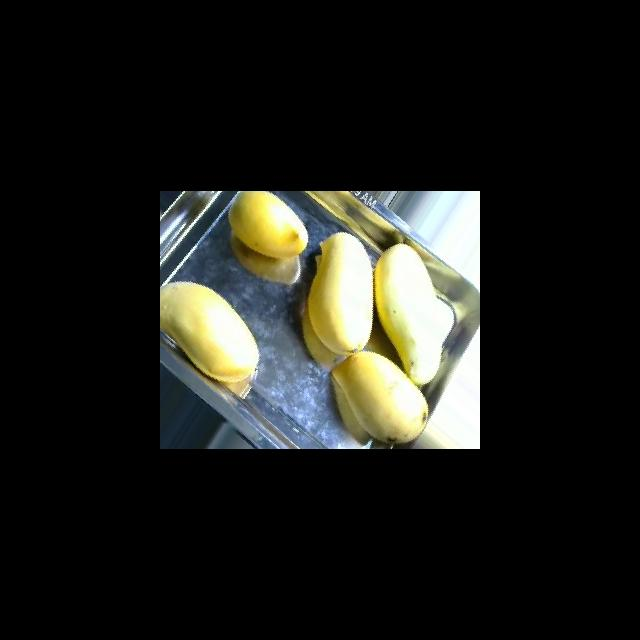mango: (372, 242, 445, 387), (160, 281, 260, 383), (329, 350, 430, 447), (307, 231, 374, 356), (228, 191, 308, 258)
